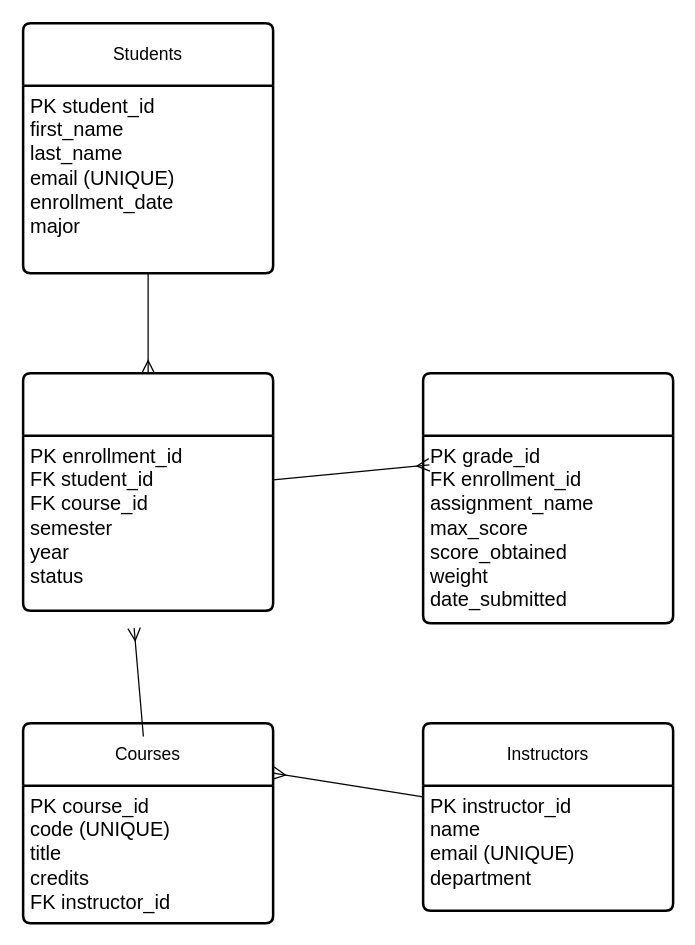
Image size: 695x945. Some labels were removed from this diagram. The box of each missing label's shape, as (x1, y1, x2, y2) in pixels:
Enrollments: (21, 371, 274, 611)
Grades: (421, 371, 674, 624)
